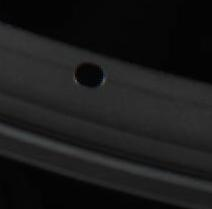holes: (73, 61, 105, 87)
